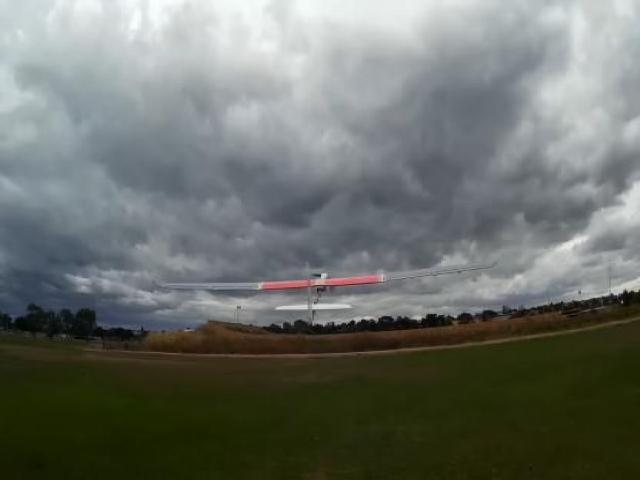uav: (143, 249, 508, 328)
